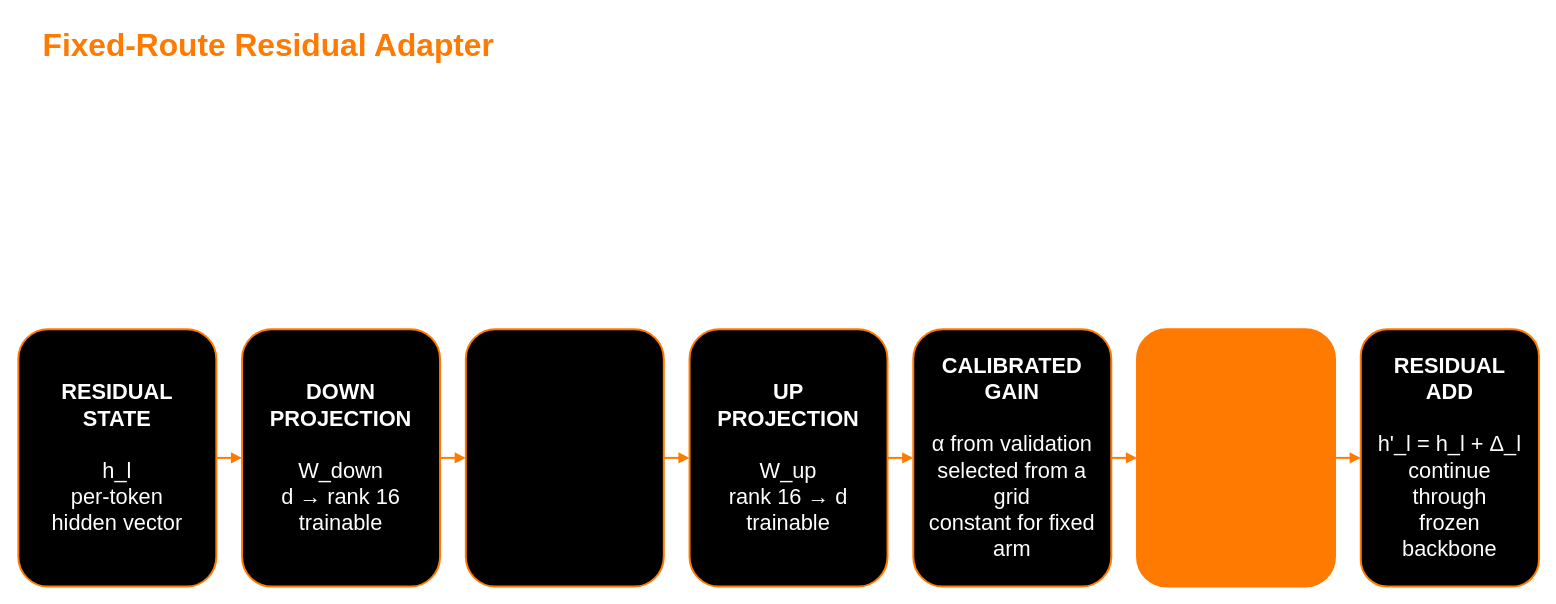
Image size: 1556x604. Some labels were removed from this diagram. The shapes that lost their labels are listed below. From the top down, each one's centre as x and y in pixels, then its label:
pixel 564 457: NONLINEARITY GELU acts in low-rank space
pixel 1236 457: P99 NORM CAP ρ_max = 0.10 layer-specific p99 limits update size
